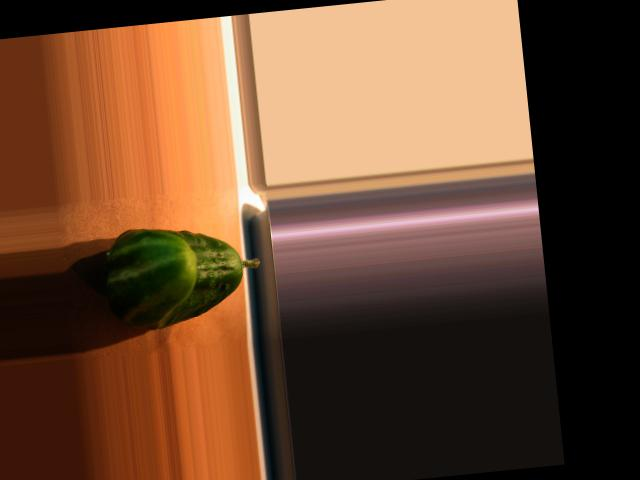cucumber: (100, 215, 266, 332)
